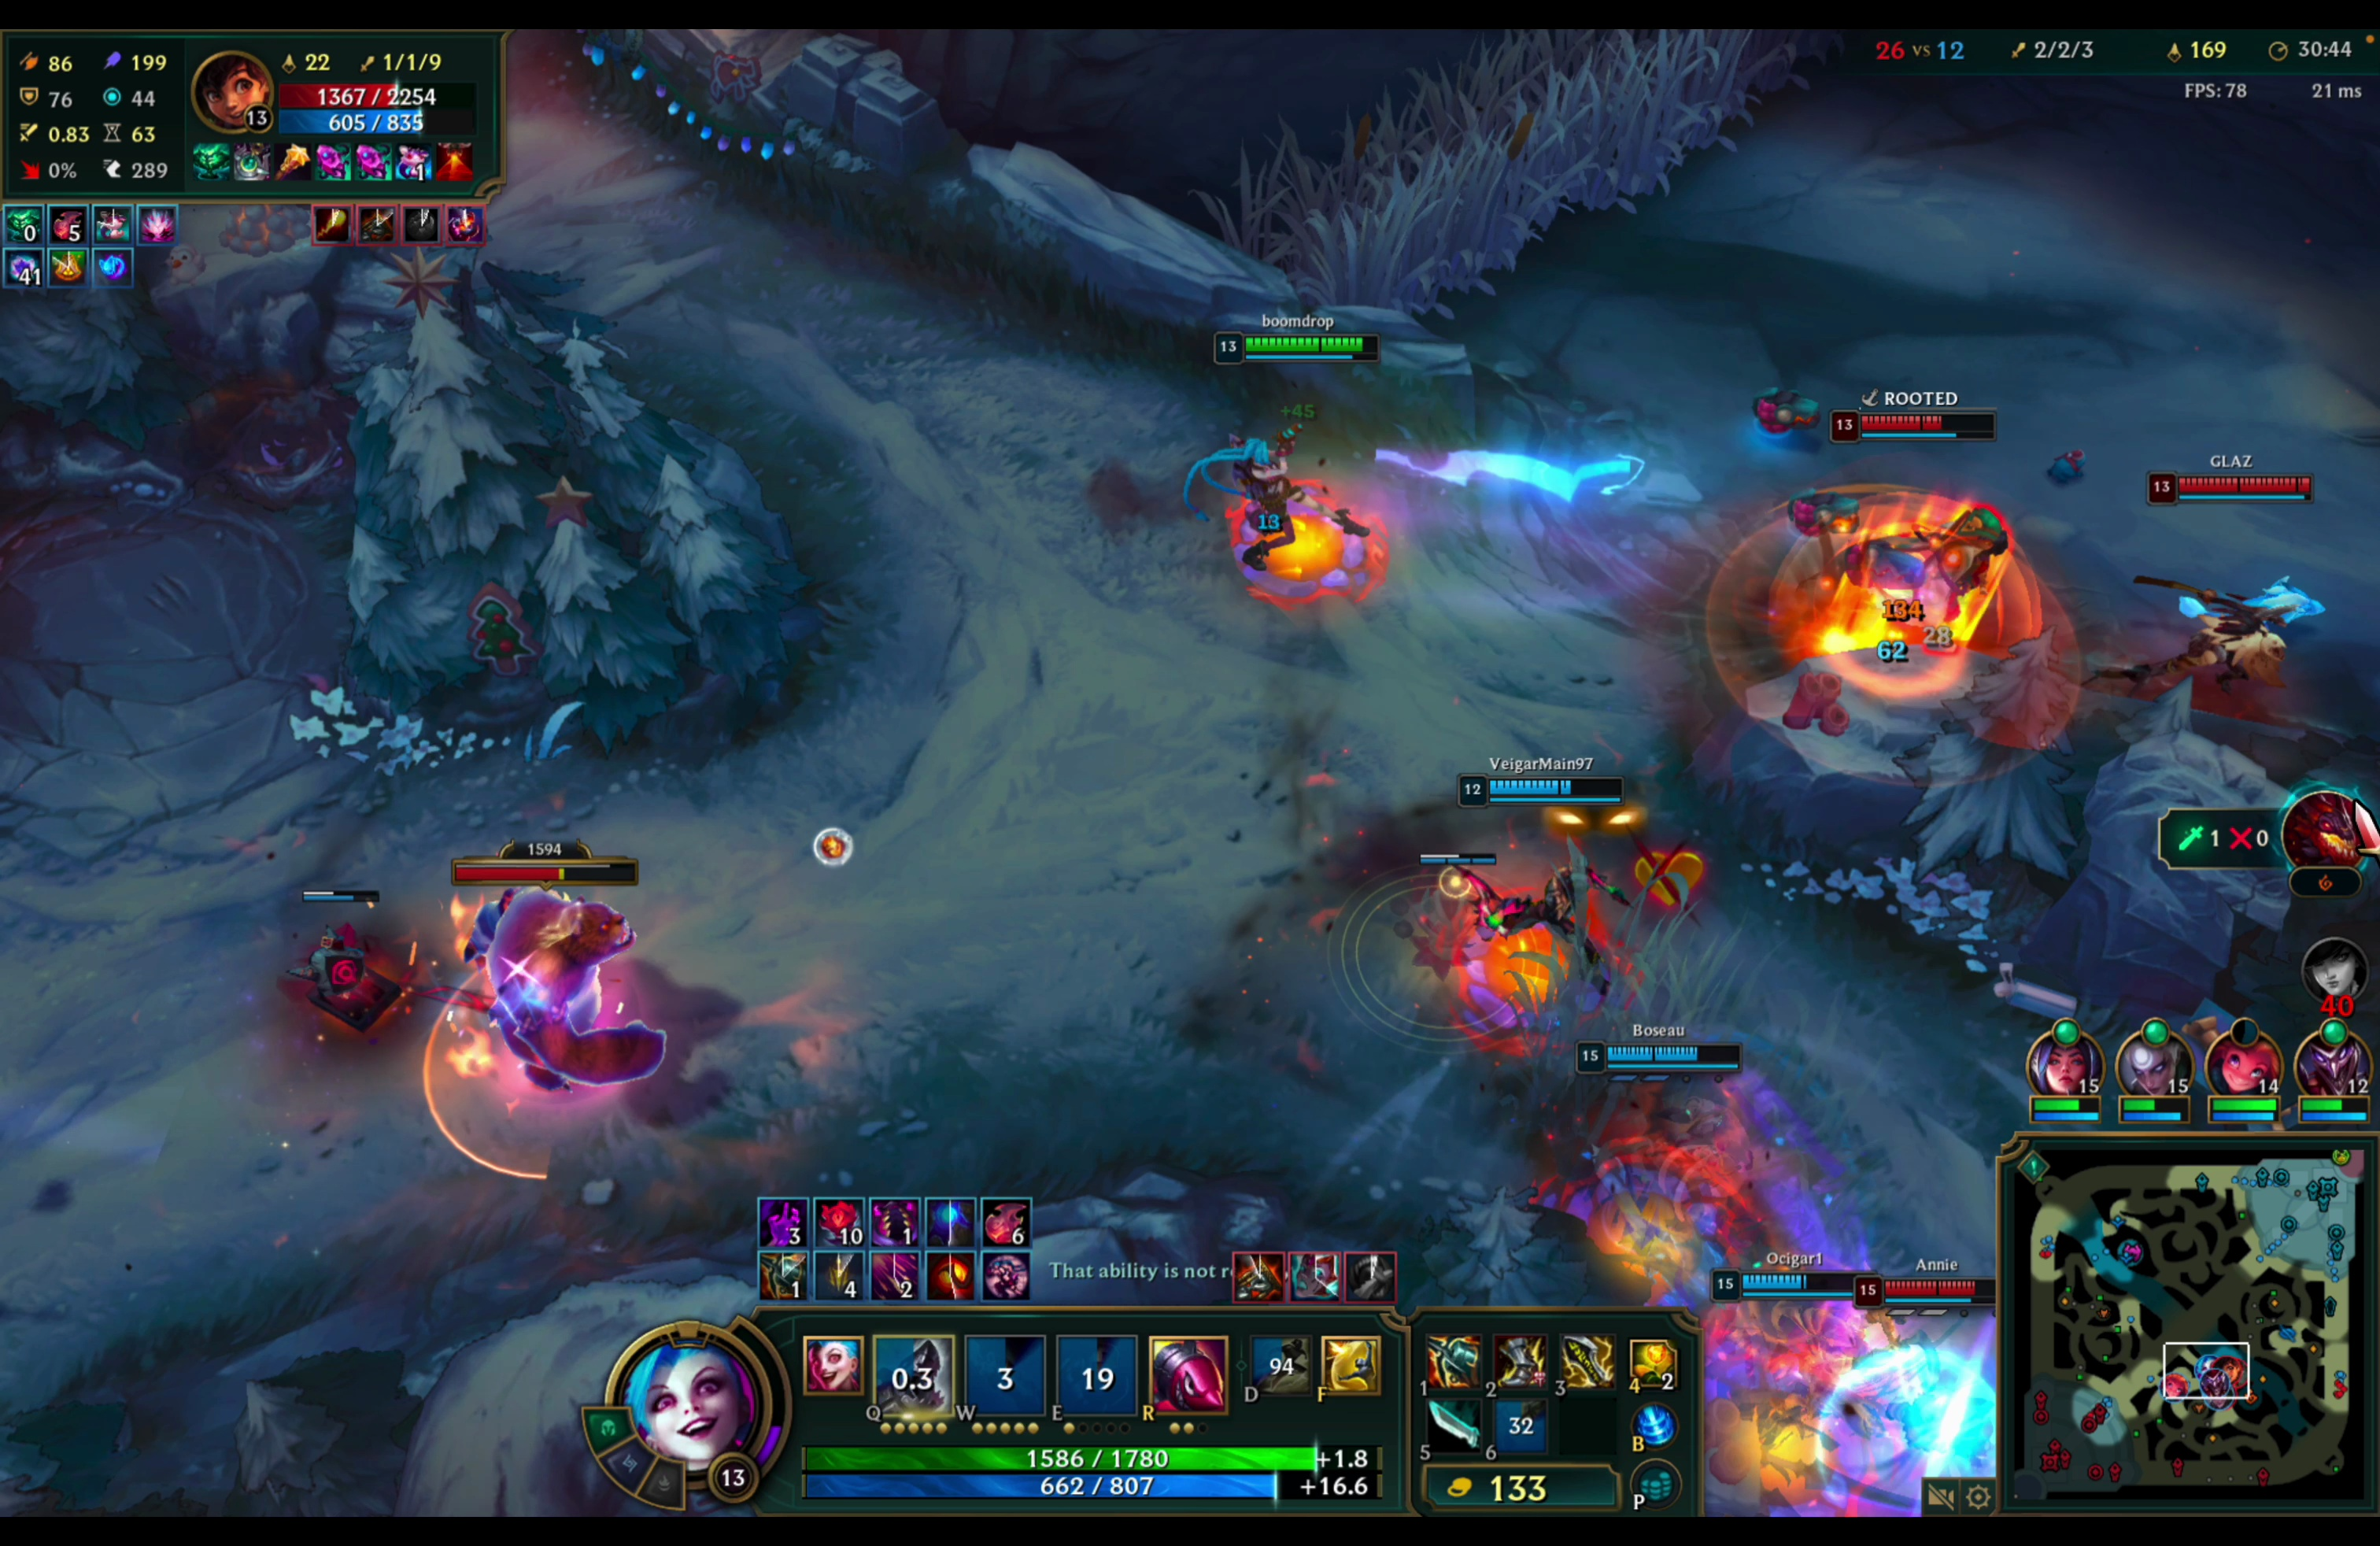JINX_W_PROJECTILE: (1202, 318, 1669, 649)
